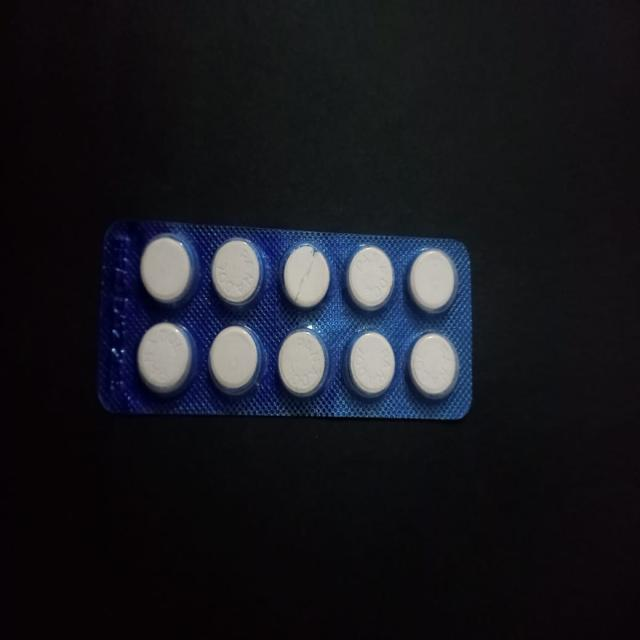defect: (279, 242, 333, 312)
